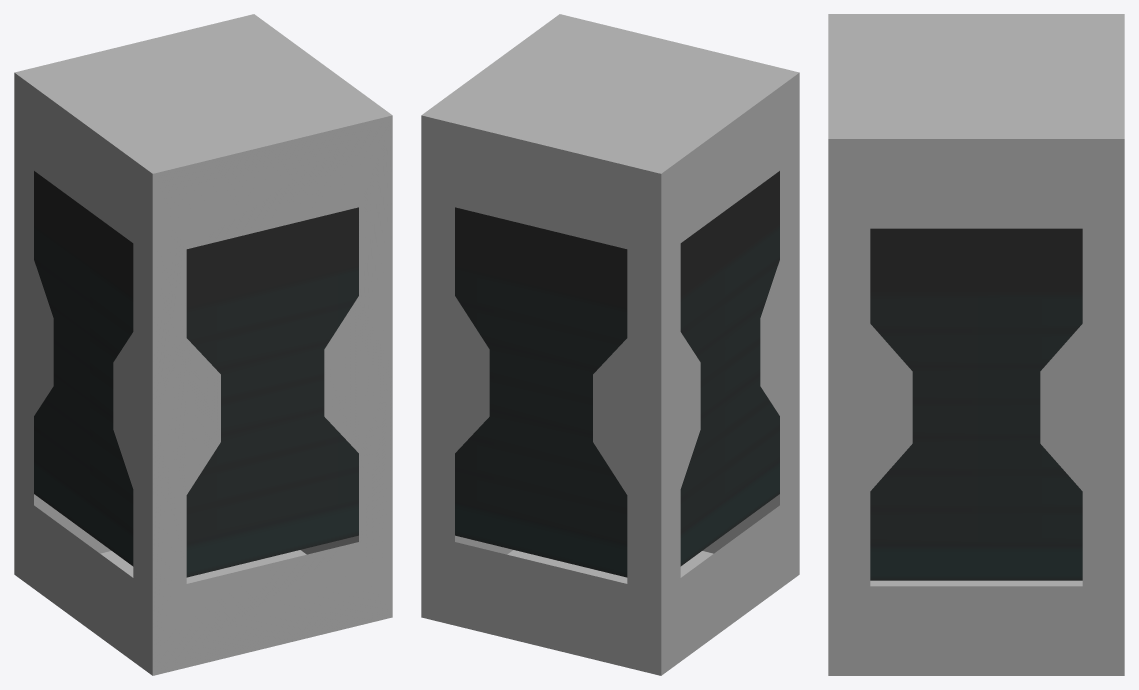
Rendered from obj_interactive_timer_lod1.fbx.
The picture shows the model from 3 angles, left to right: view 1: azimuth 30°, elevation 25°; view 2: azimuth 150°, elevation 25°; view 3: azimuth 270°, elevation 25°; orthographic projection. The views are drawn at different scales.
Visible parts, largest first — view 1: obj_interactive_timer_off_lod0.001, obj_interactive_timer_off_lod0.002; view 2: obj_interactive_timer_off_lod0.001, obj_interactive_timer_off_lod0.002; view 3: obj_interactive_timer_off_lod0.001, obj_interactive_timer_off_lod0.002.
Boxes of the visible parts, x1,y1,x2,y2 form: obj_interactive_timer_off_lod0.001: [14, 14, 392, 675]; obj_interactive_timer_off_lod0.002: [34, 171, 358, 577]; obj_interactive_timer_off_lod0.001: [421, 14, 799, 675]; obj_interactive_timer_off_lod0.002: [455, 171, 779, 577]; obj_interactive_timer_off_lod0.001: [828, 14, 1124, 675]; obj_interactive_timer_off_lod0.002: [870, 228, 1082, 580].
Size of the model in its own units: 1 by 2 by 1.
